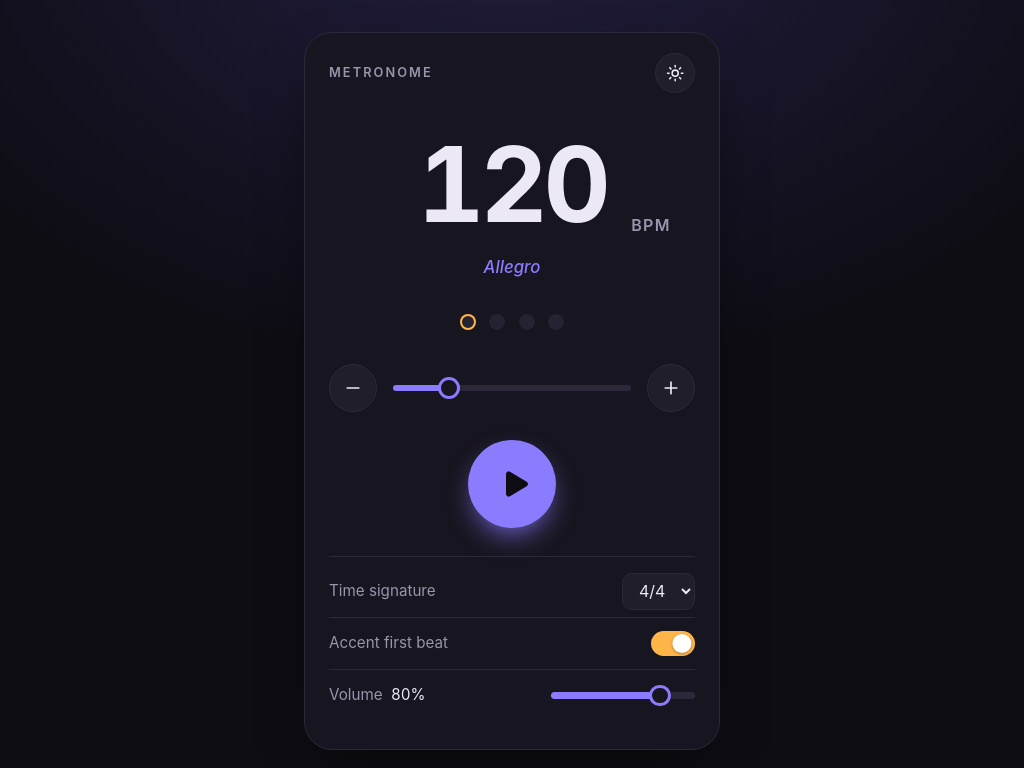
Test case: App › changes the tempo with the − and + buttons
Click the button named "Increase tempo": click(671, 388) [647, 364, 695, 412]
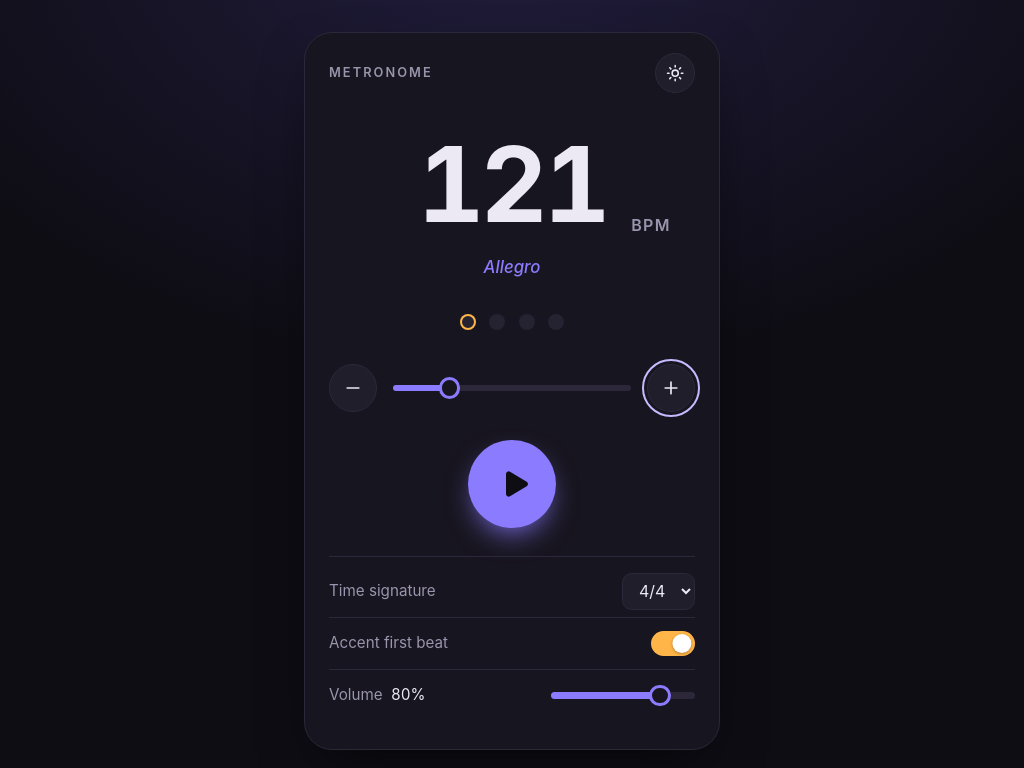
Click the button named "Increase tempo": click(671, 388) [647, 364, 695, 412]
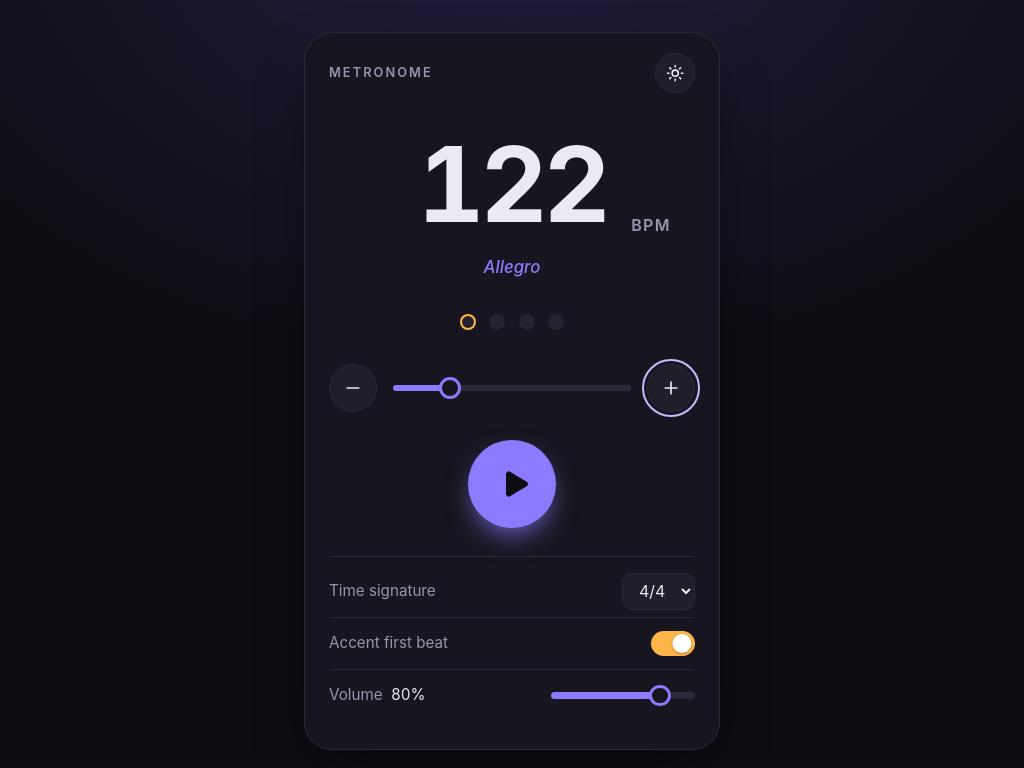
Check: the field named "tempo in beats per minute" holds "122", box [393, 121, 631, 247]
Click the button named "Decrease tempo": click(353, 388) [329, 364, 377, 412]
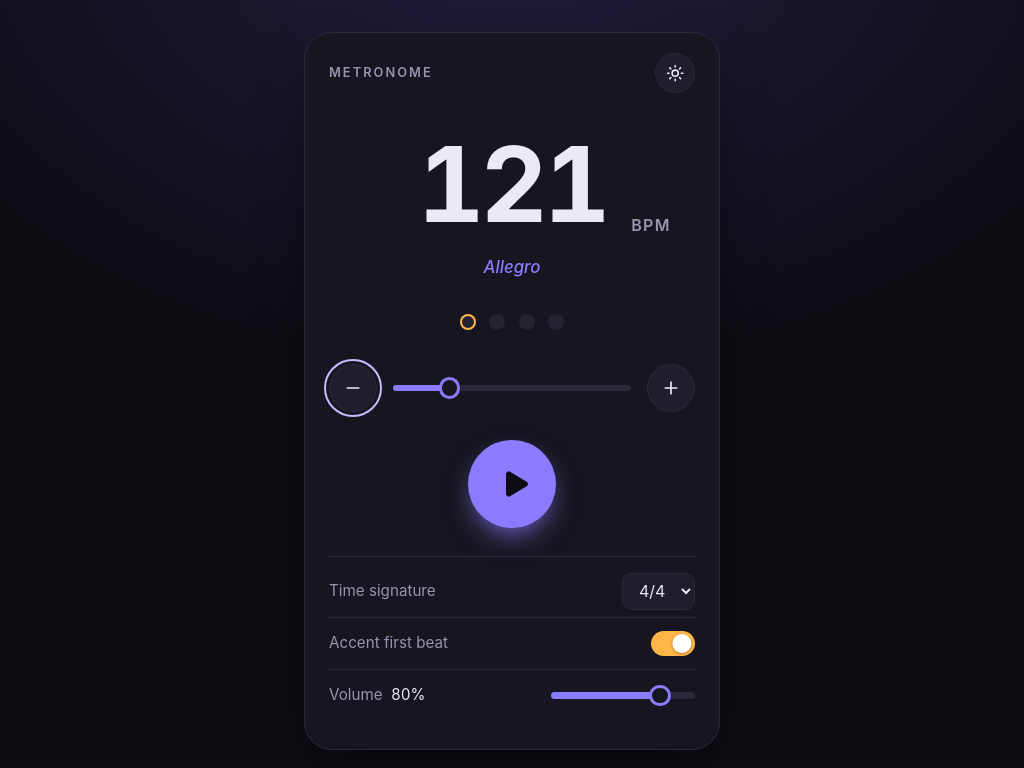
Check: the field named "tempo in beats per minute" holds "121", box [393, 121, 631, 247]
